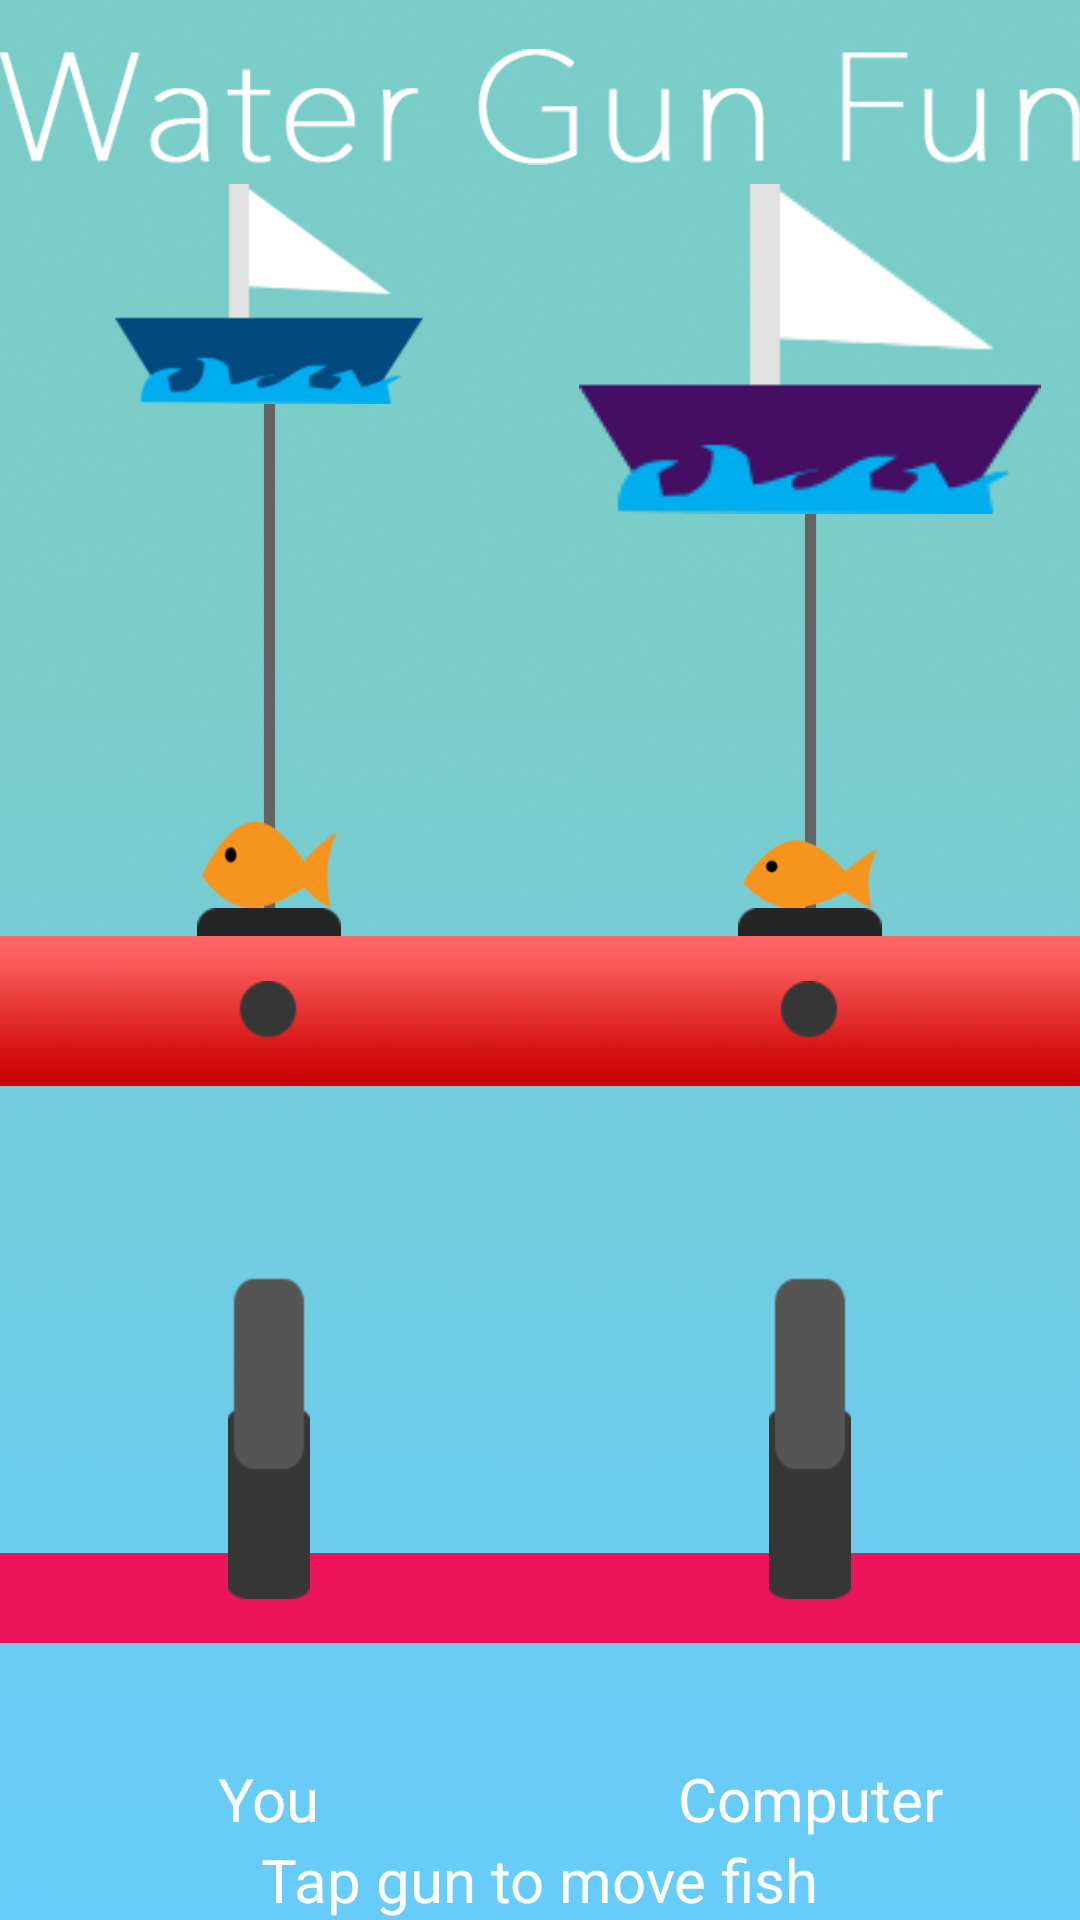

Icon bounding boxes for this 1080 x 1920 phone screenshot, format Rect(x1, y1, x2, y2):
waterraceboat: Rect(115, 184, 423, 404)
